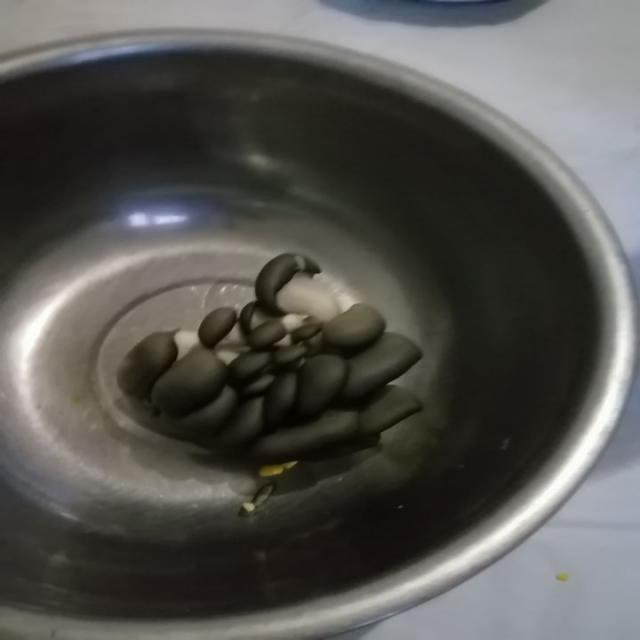Pleurotus ostreatus: (128, 250, 424, 486)
